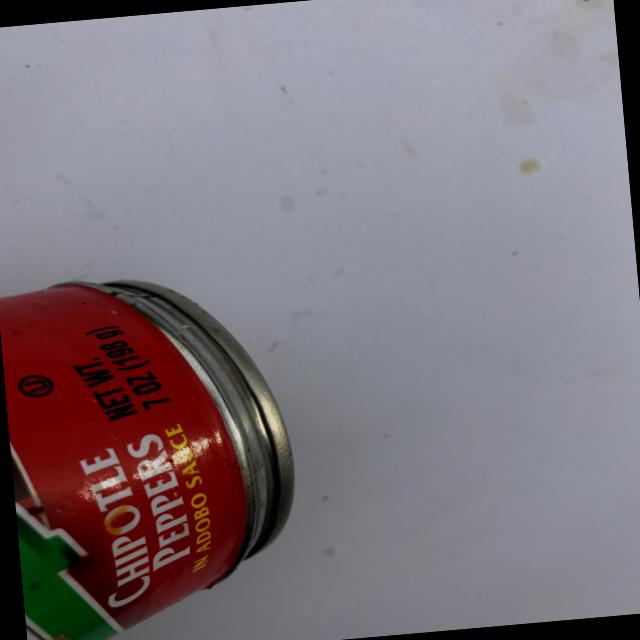Metal: (0, 239, 340, 640)
